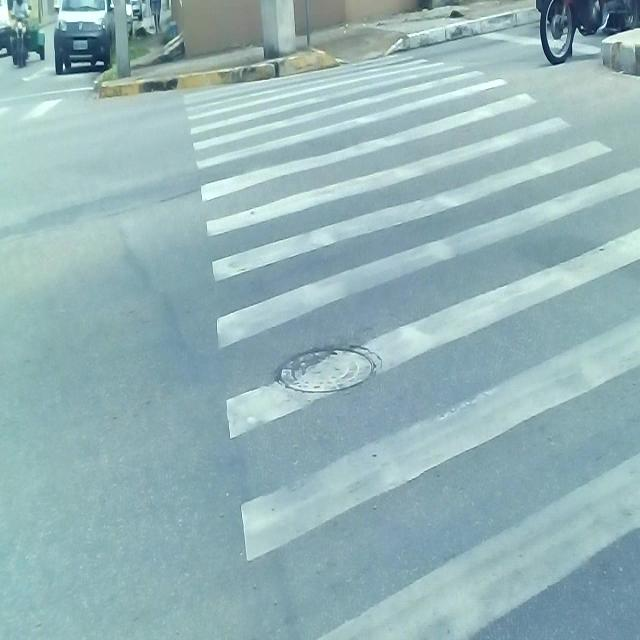crosswalk: (183, 52, 640, 640)
